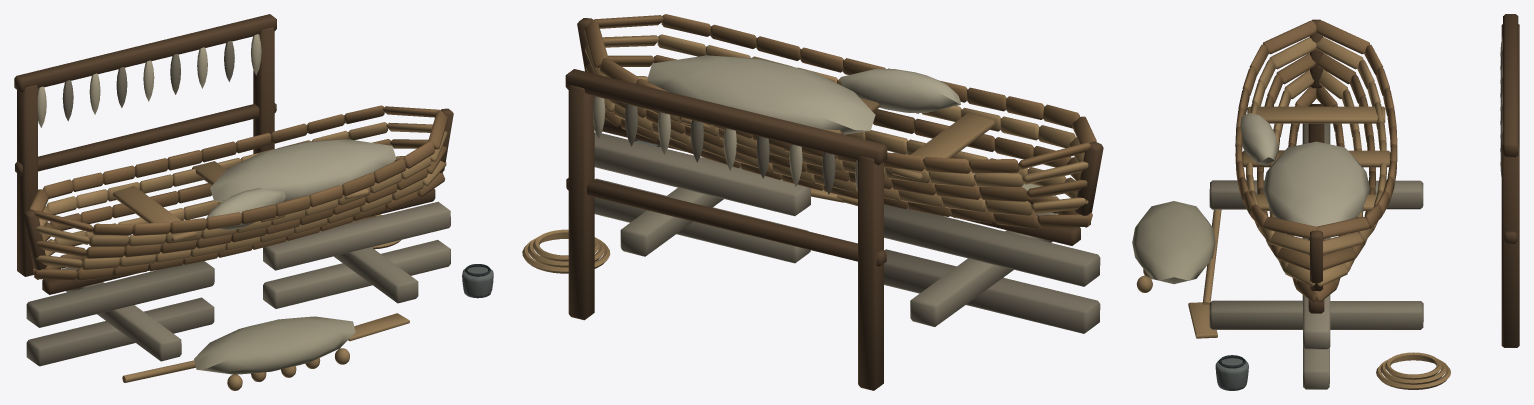
Rendered from skiff_on_blocks_a.glb.
3 views of the same model, side by side, from view 1: azimuth 30°, elevation 25°; view 2: azimuth 150°, elevation 25°; view 3: azimuth 270°, elevation 25° (orthographic). The views are drawn at different scales.
Parts seen in each view (by area): view 1: Surface; view 2: Surface; view 3: Surface.
Boxes of the visible parts, <box> form: Surface: <box>14,14,493,390</box>; Surface: <box>522,14,1103,390</box>; Surface: <box>1132,14,1519,390</box>.
Size of the model in its own units: 7.93 by 3.52 by 5.99.
